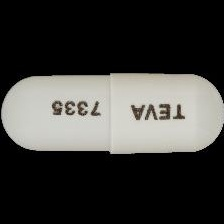0093-7335: (0, 0, 224, 224)
